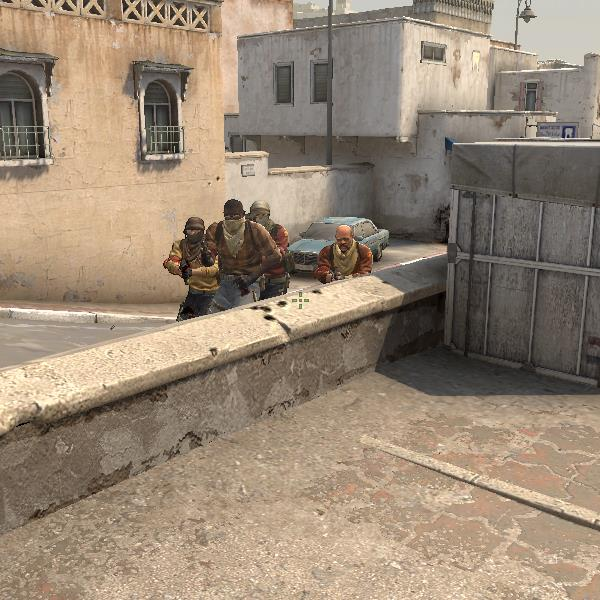t_body: (199, 192, 277, 305)
t_head: (216, 195, 256, 235)
